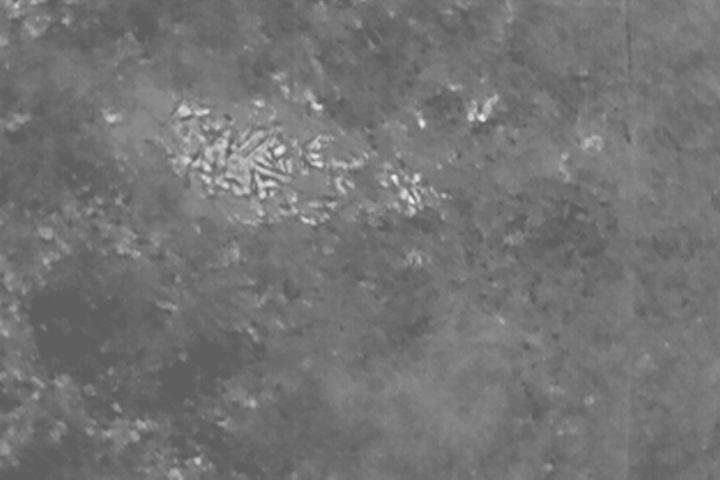landmine: (164, 105, 297, 193)
